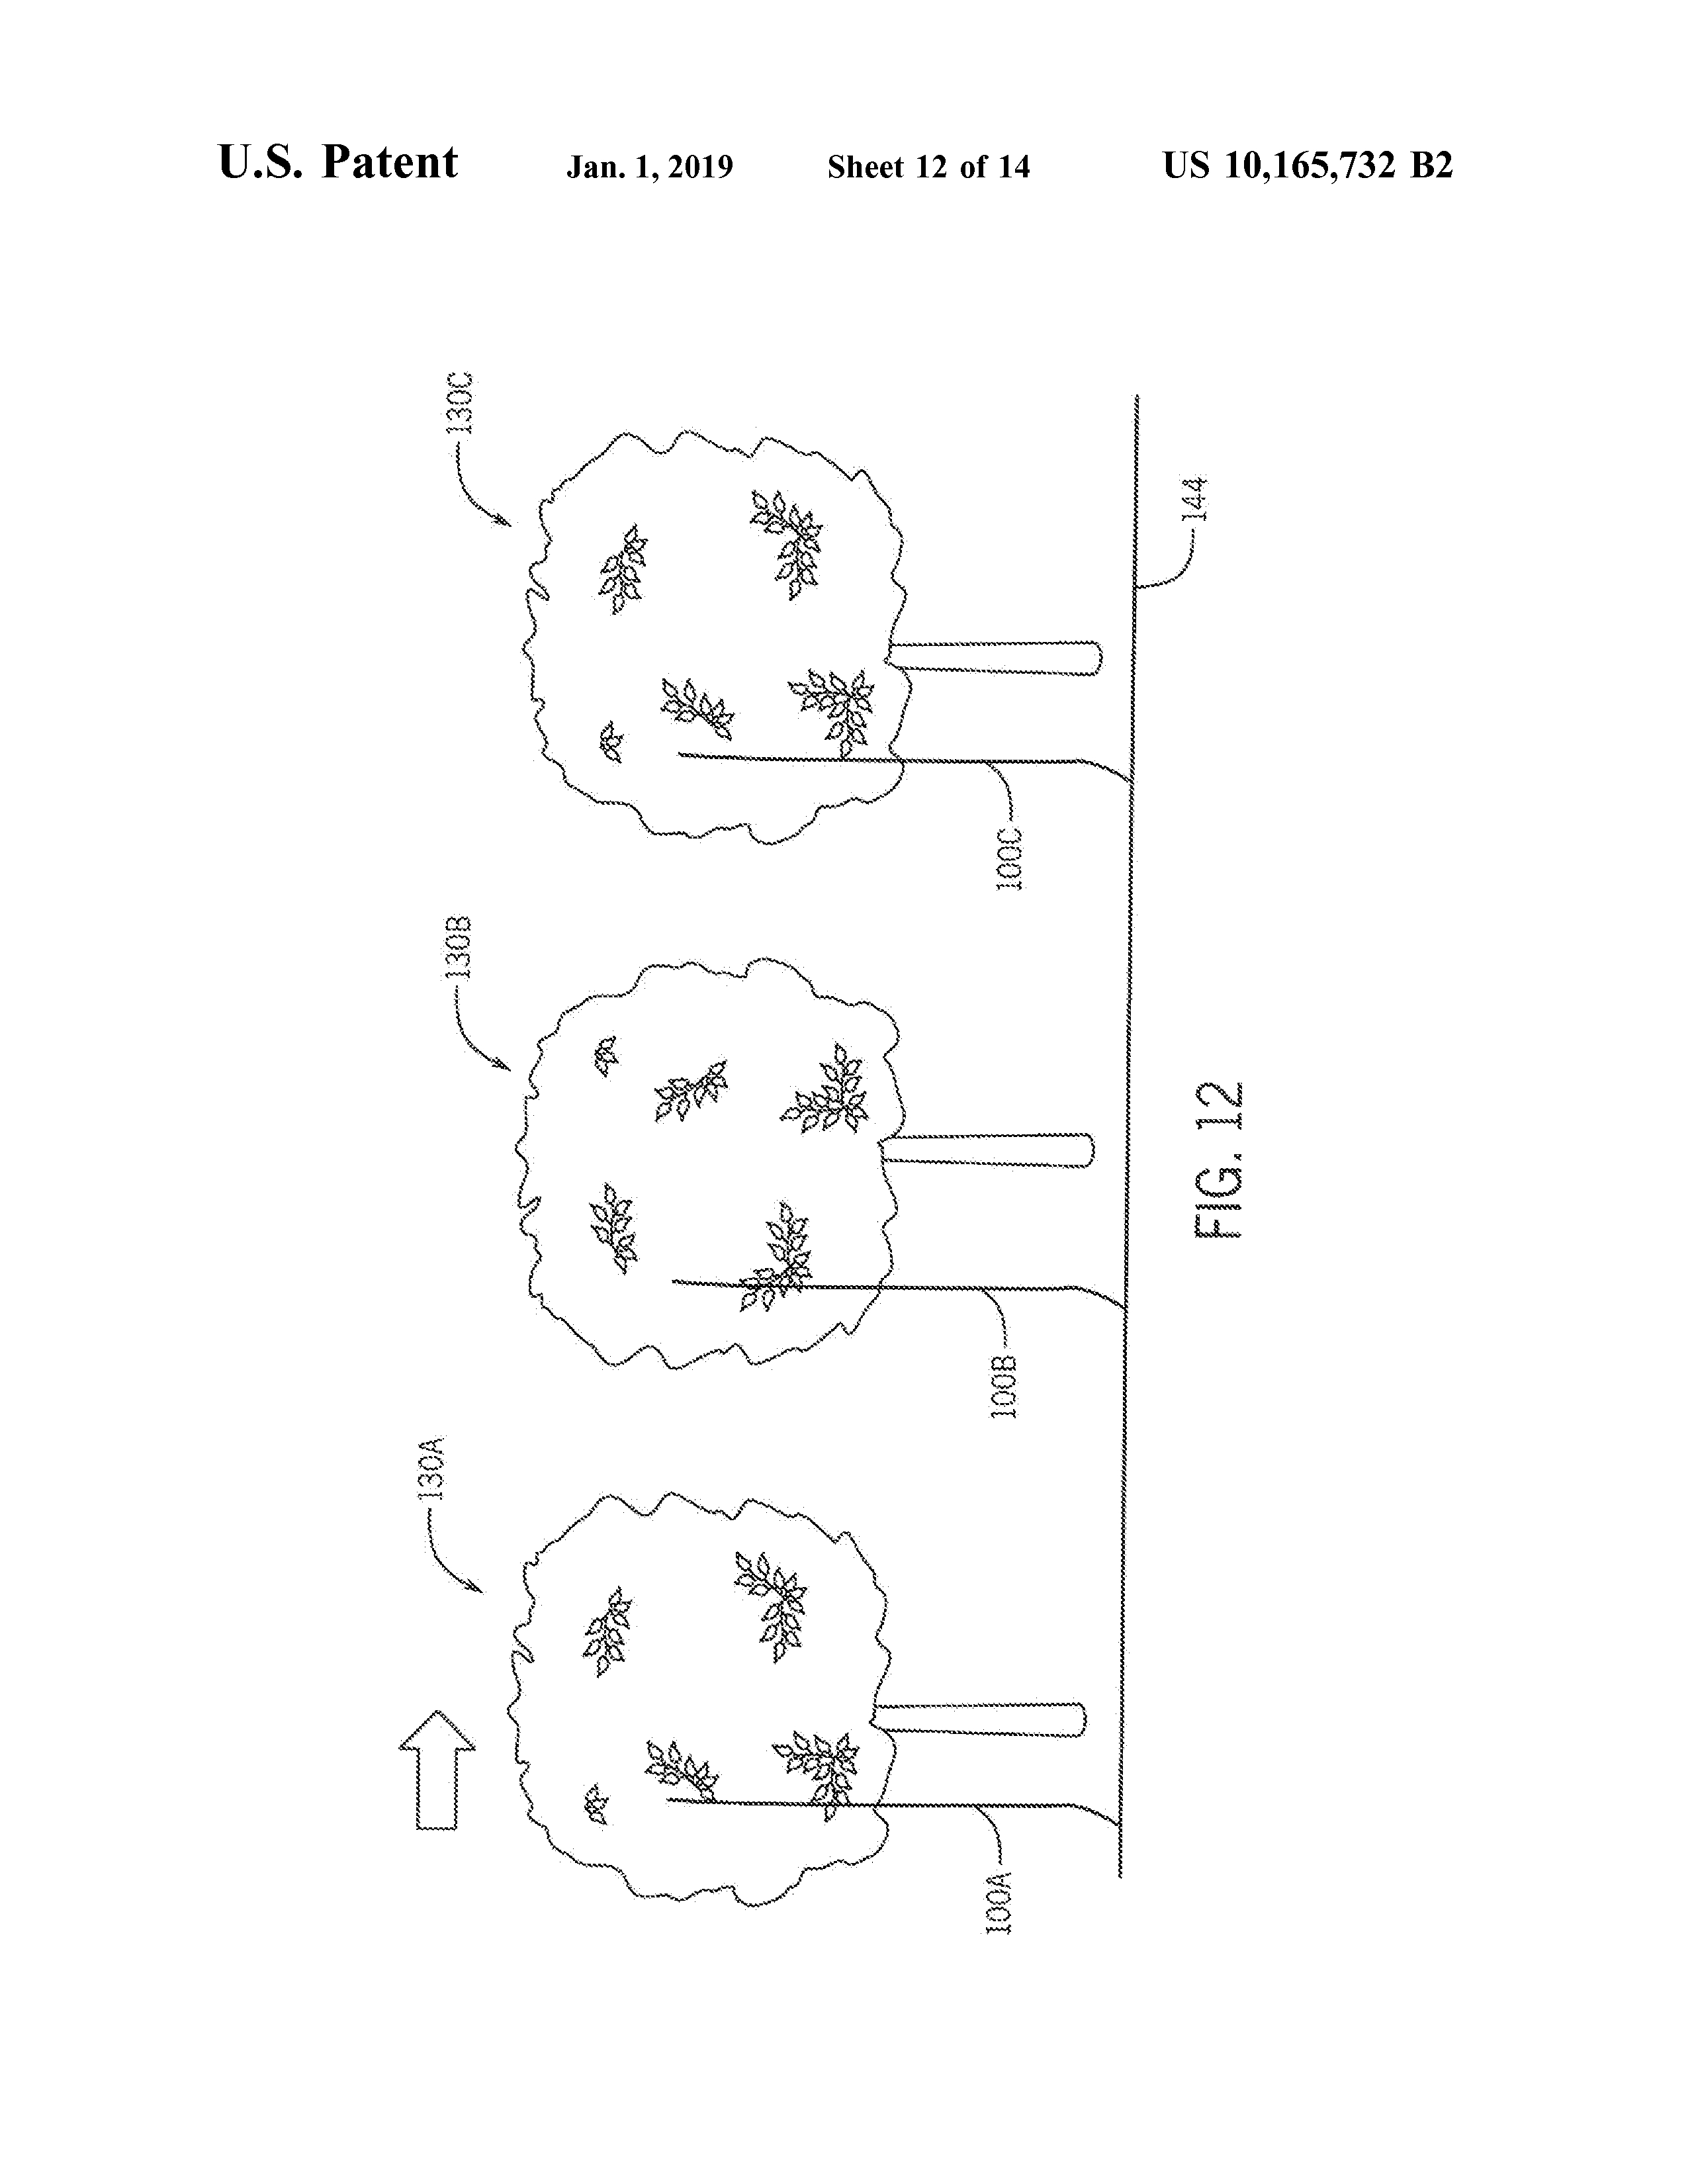patent image: (347, 314, 1268, 1971)
